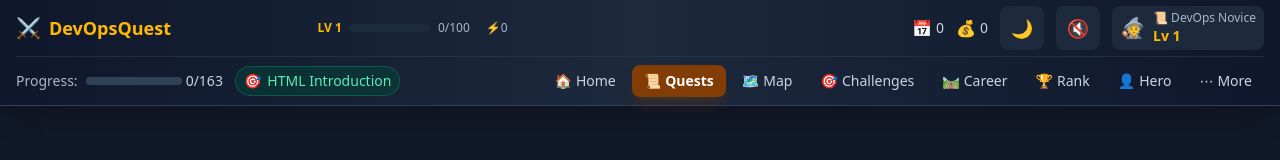
Test case: HUD › toggles sound between muted and enabled, persisting the preference
What coordinates should you click on to do the following:
click the button named "Sound is muted. Click to enable sound."
I would click on:
 (1078, 28)
Its box is [1056,6,1100,50].
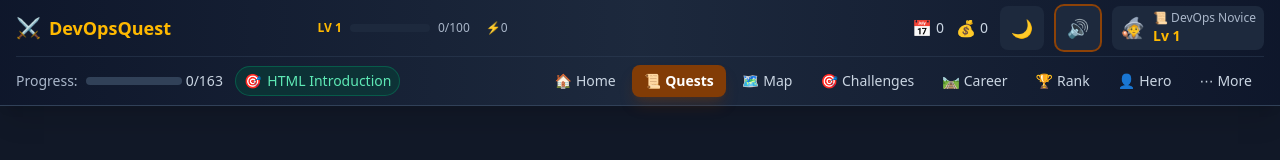
What coordinates should you click on to do the following:
click the button named "Sound is enabled. Click to mute."
I would click on:
 (1078, 28)
Its box is [1056,6,1100,50].
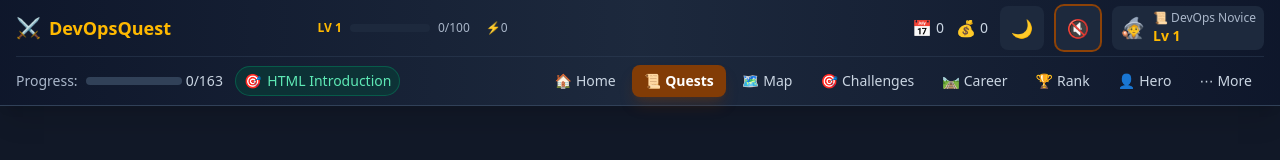
Check: the button named "Sound is muted. Click to enable sound." is shown, box [1056,6,1100,50]
